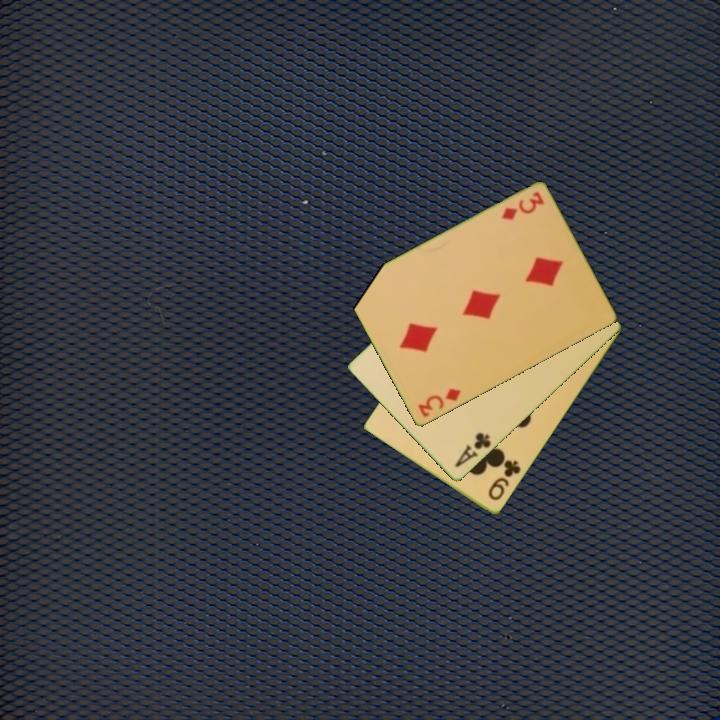3d: (414, 385, 464, 421), (498, 188, 547, 223)
9c: (484, 457, 524, 504)
Ac: (451, 429, 494, 471)
